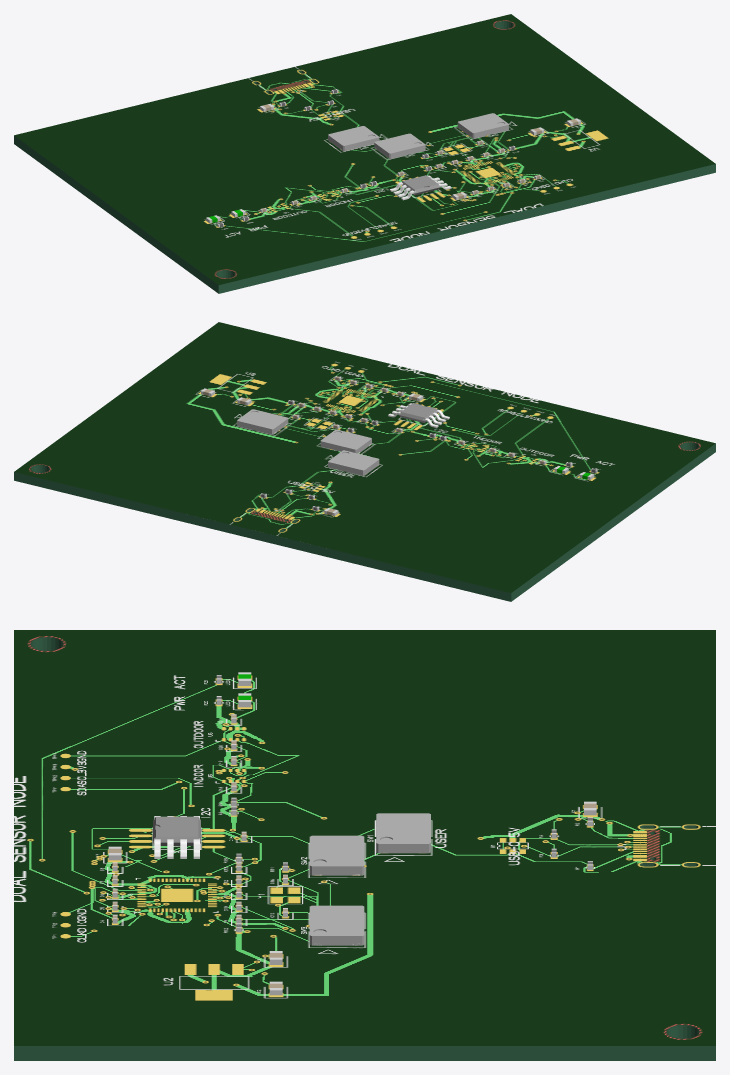
3 renders of one model, top to bottom at view 1: azimuth 30°, elevation 25°; view 2: azimuth 150°, elevation 25°; view 3: azimuth 270°, elevation 25°, orthographic. The views are drawn at different scales.
Parts seen in each view (by area): view 1: Box0, SW2, SW3, SW1, U4; view 2: Box0, SW3, SW1, SW2, U4; view 3: Box0, SW3, SW2, SW1, U4.
Part boxes in pixels (x1,y1,x2,y2): Box0: [14, 14, 715, 293]; SW2: [374, 133, 425, 158]; SW3: [457, 113, 508, 138]; SW1: [328, 126, 379, 151]; U4: [389, 175, 451, 200]; Box0: [14, 322, 715, 601]; SW3: [237, 409, 288, 434]; SW1: [328, 450, 379, 475]; SW2: [320, 429, 371, 453]; U4: [388, 403, 449, 427]; Box0: [14, 630, 715, 1060]; SW3: [309, 905, 364, 945]; SW2: [309, 835, 364, 875]; SW1: [376, 813, 430, 853]; U4: [153, 816, 200, 858].
Bounding box in the file's own units: 95.3 × 2.88 × 68.
Materials: 10 (2 with a texture image).
